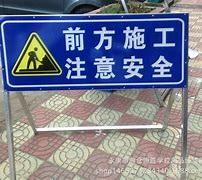sign: (1, 18, 185, 87)
